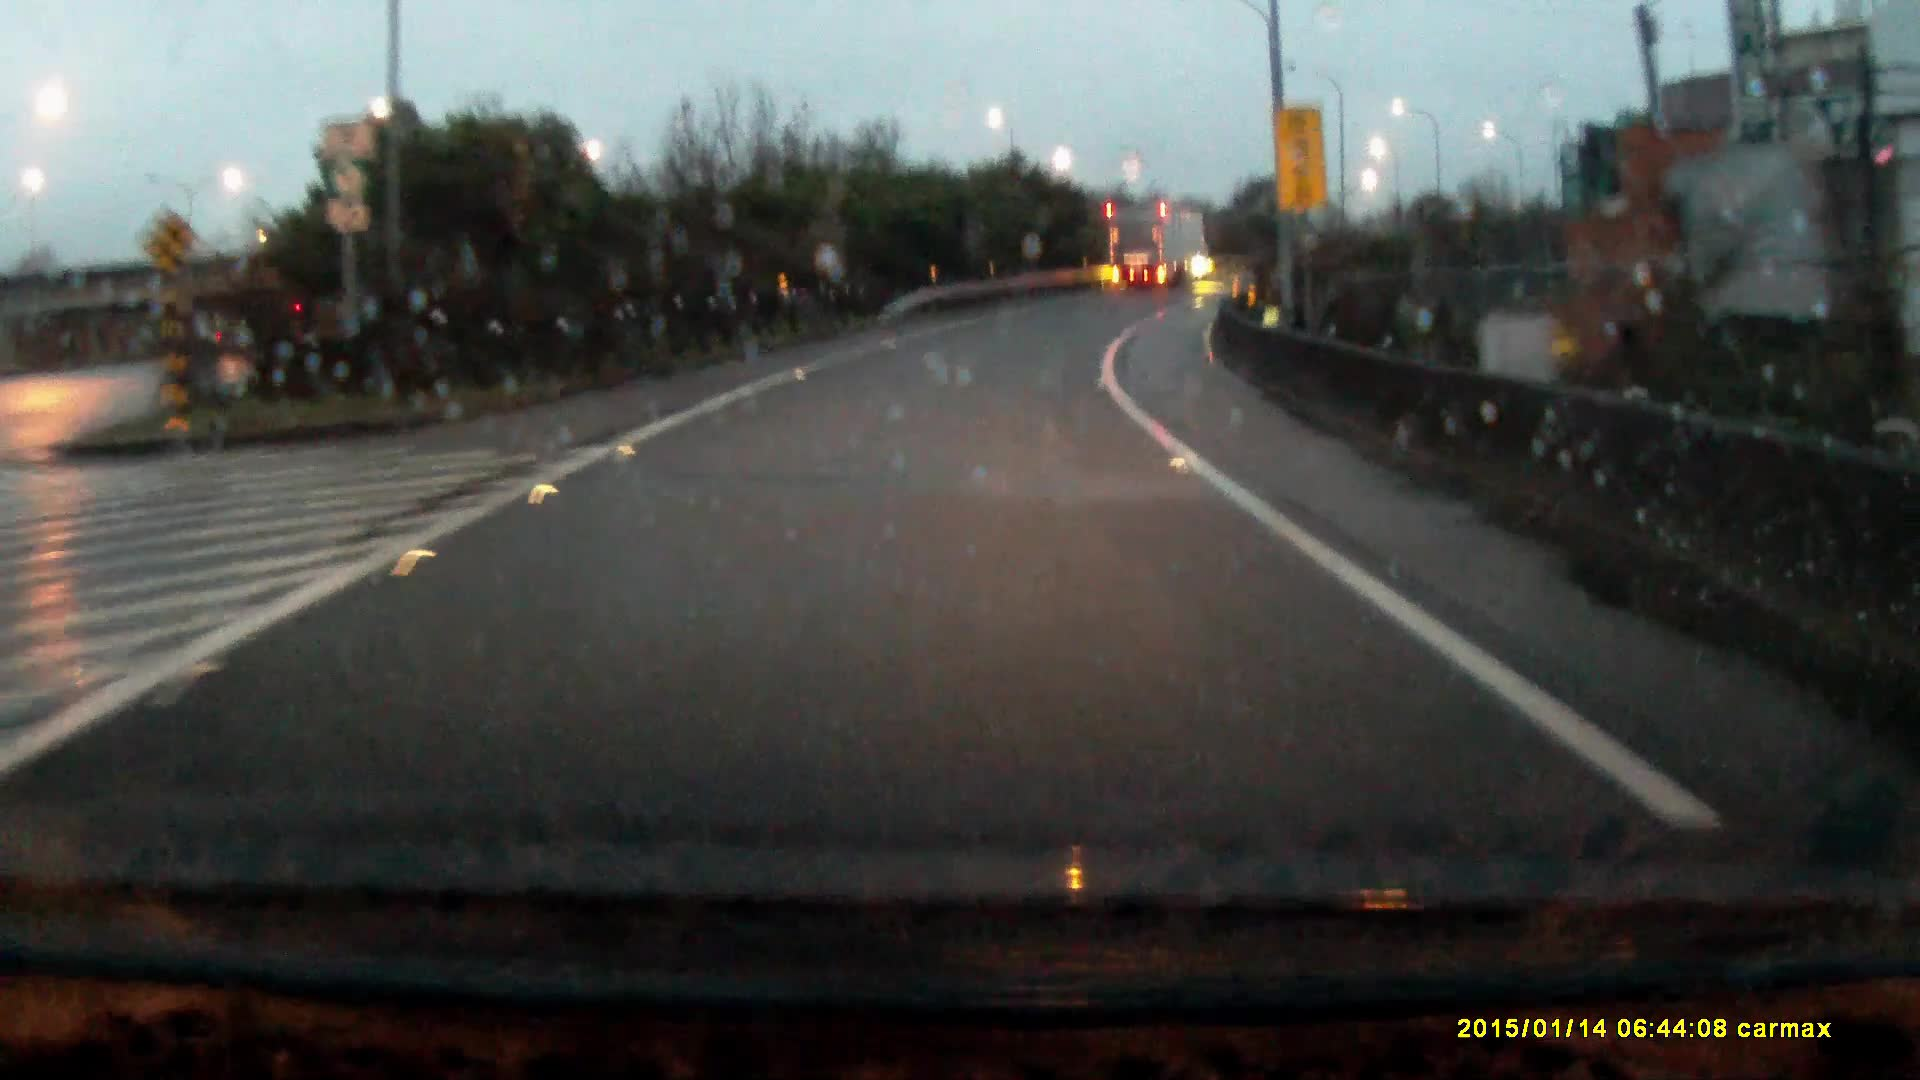vehicle: (1106, 203, 1211, 291)
